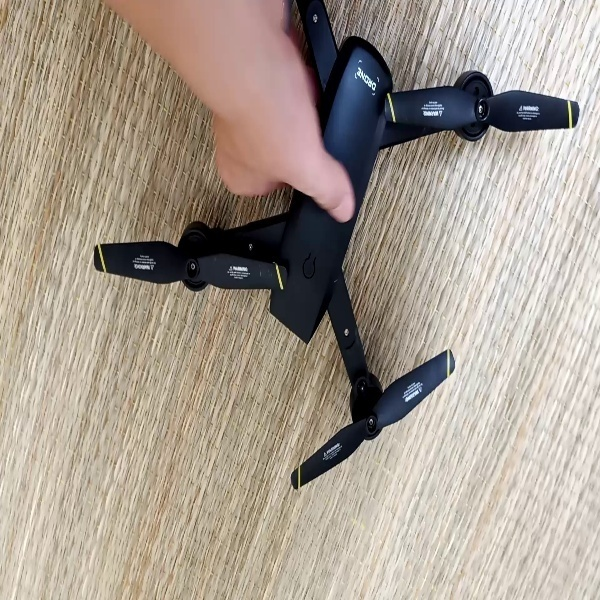drone: (89, 1, 593, 498)
